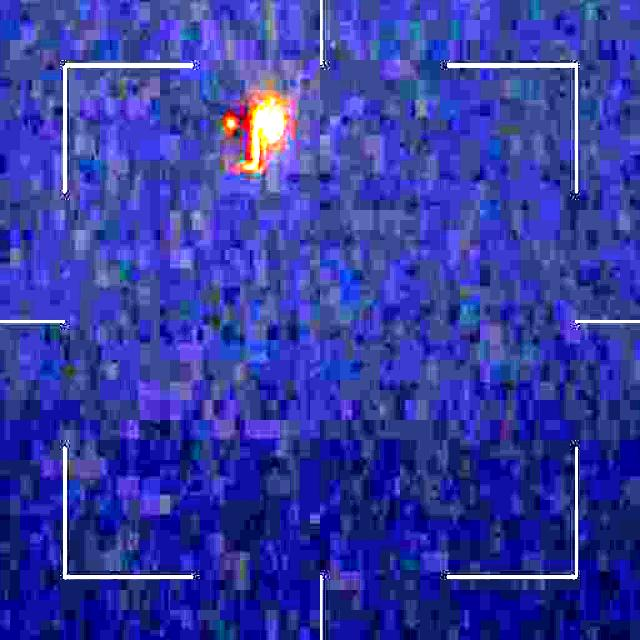bird: (212, 96, 284, 170)
